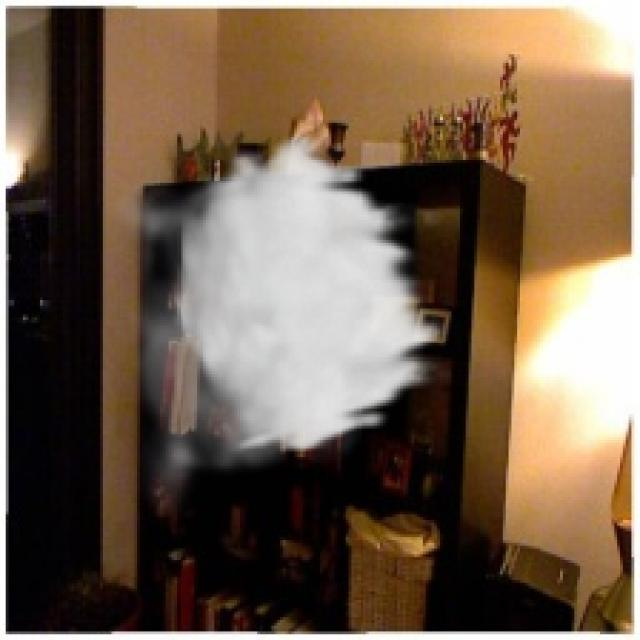smoke: (106, 131, 451, 523)
